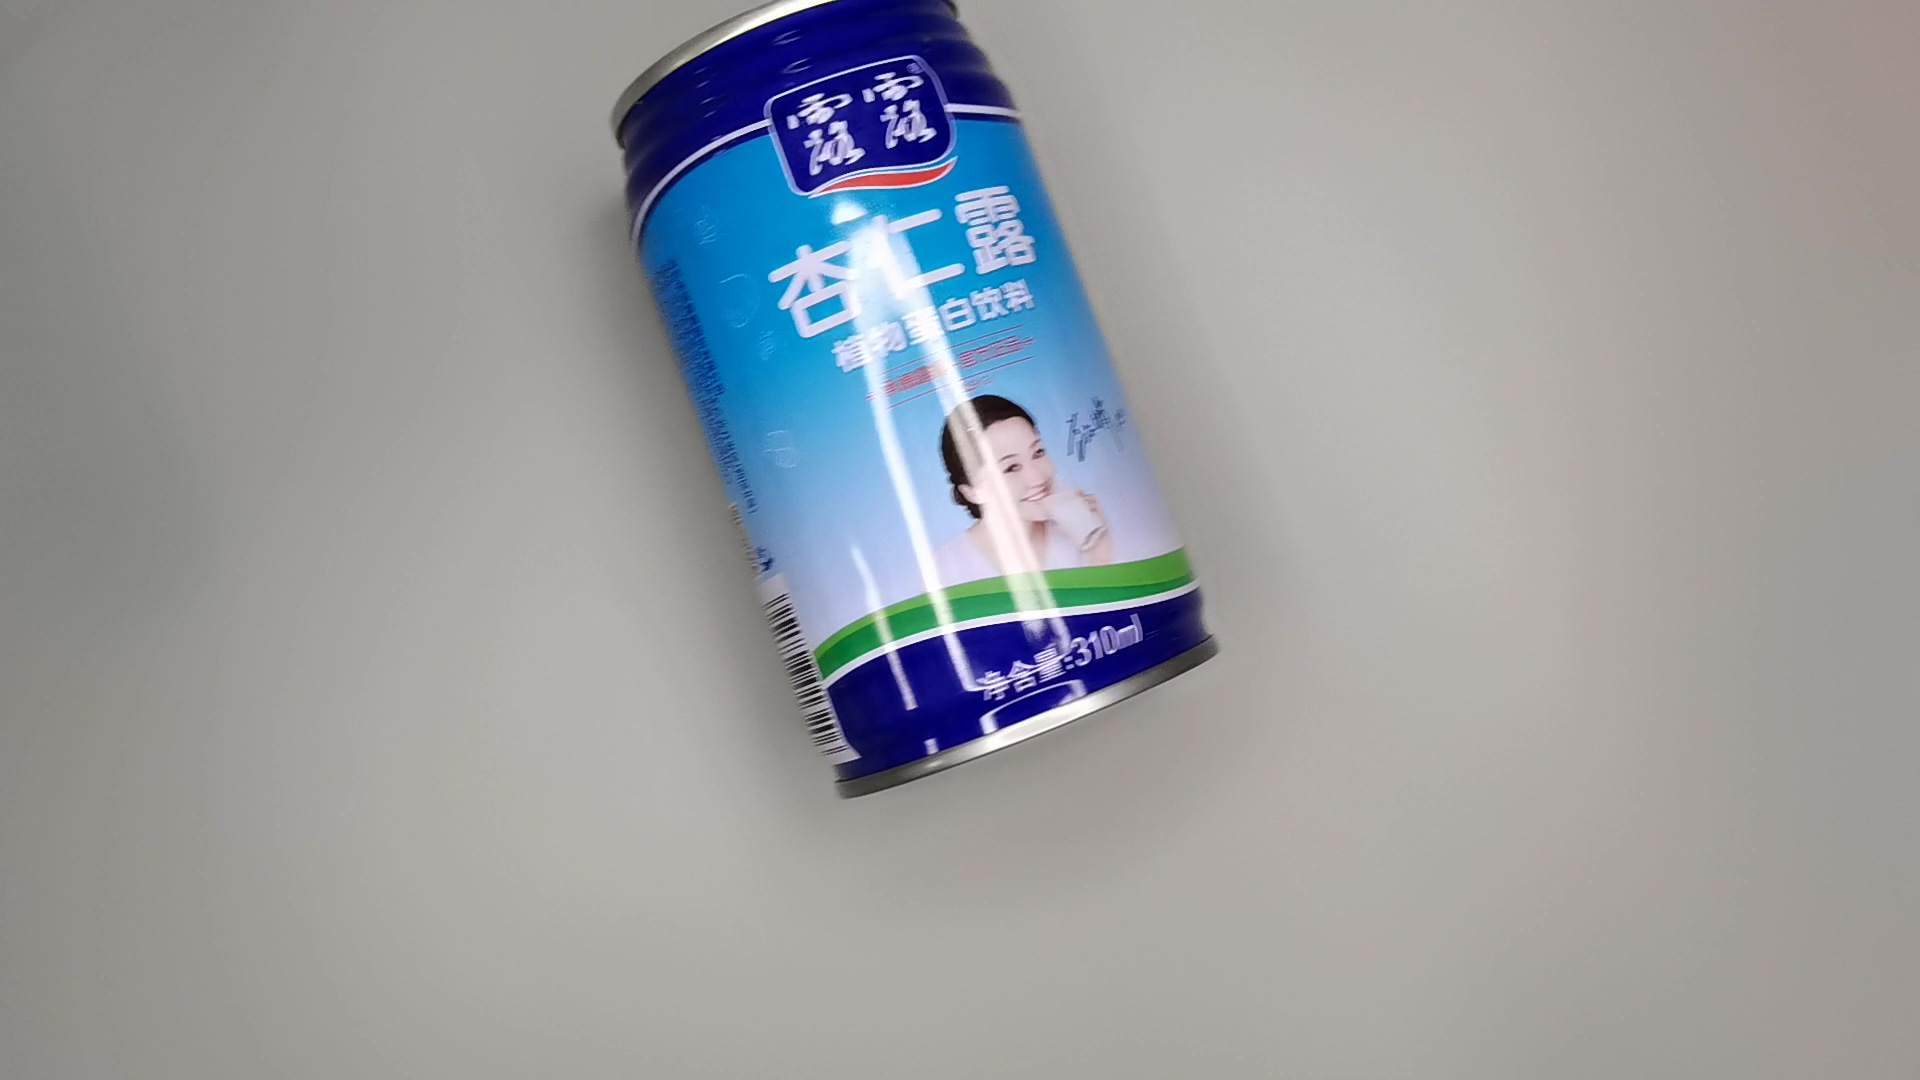can: (604, 1, 1230, 815)
